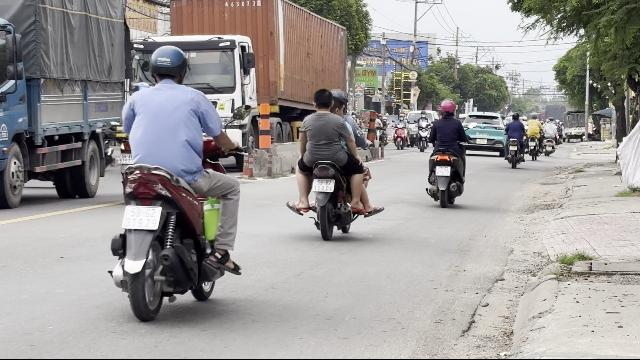helmet: (147, 44, 189, 86), (329, 88, 347, 114), (437, 99, 455, 117)
licenseplate: (122, 206, 162, 230), (312, 178, 336, 192), (436, 166, 450, 176)
motorcyclist: (105, 43, 245, 322), (287, 85, 381, 239), (422, 99, 470, 206)
nohelmet: (312, 87, 332, 113)
